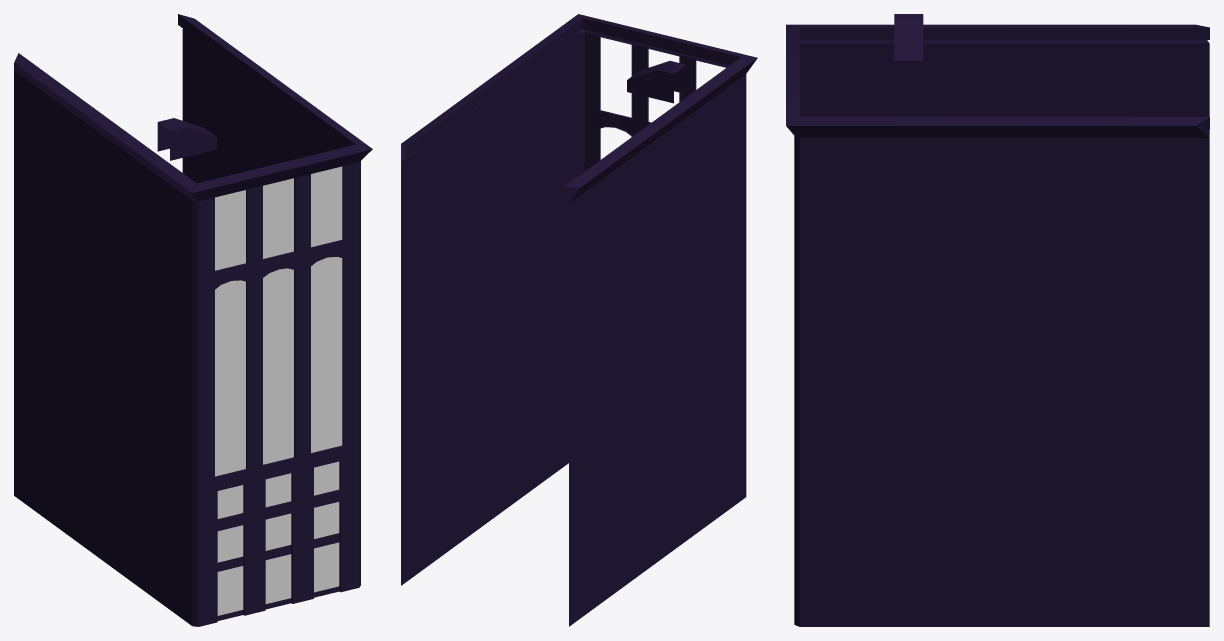
File: building_04.gltf
3 views of the same model, side by side, from view 1: azimuth 30°, elevation 25°; view 2: azimuth 150°, elevation 25°; view 3: azimuth 270°, elevation 25° (orthographic). The views are drawn at different scales.
Visible parts, largest first — view 1: building_04; view 2: building_04; view 3: building_04.
Boxes of the visible parts, <box> form: building_04: <box>14,14,372,626</box>; building_04: <box>401,14,757,626</box>; building_04: <box>786,14,1209,626</box>.
Bounding box in the file's own units: 1.43 × 3.48 × 2.53.
